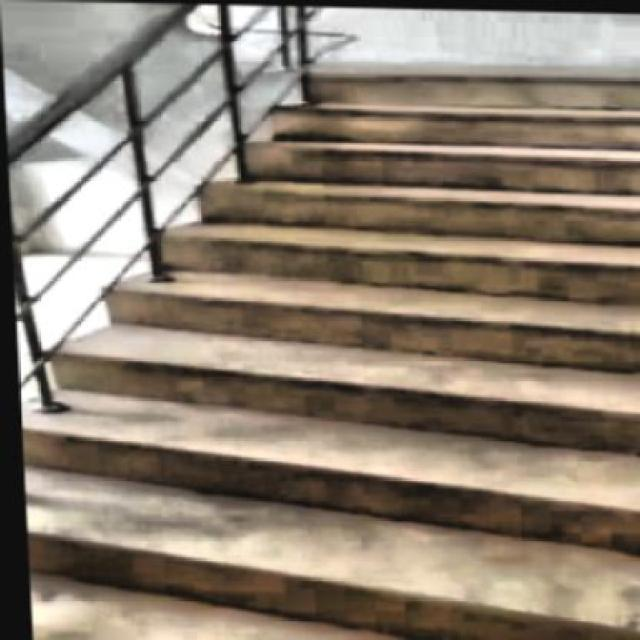stair: (1, 59, 638, 638)
